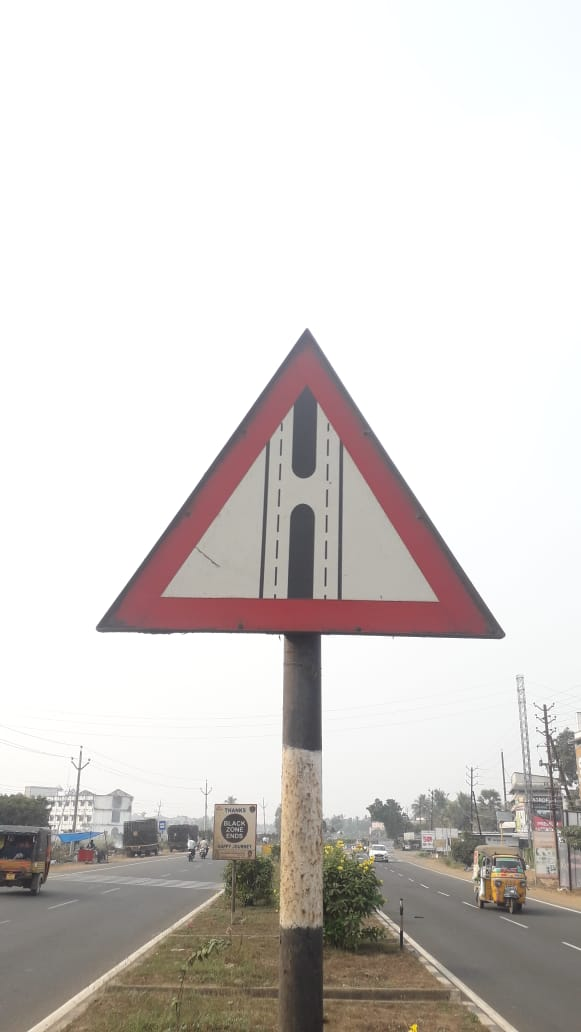highway go straight: (90, 314, 527, 655)
